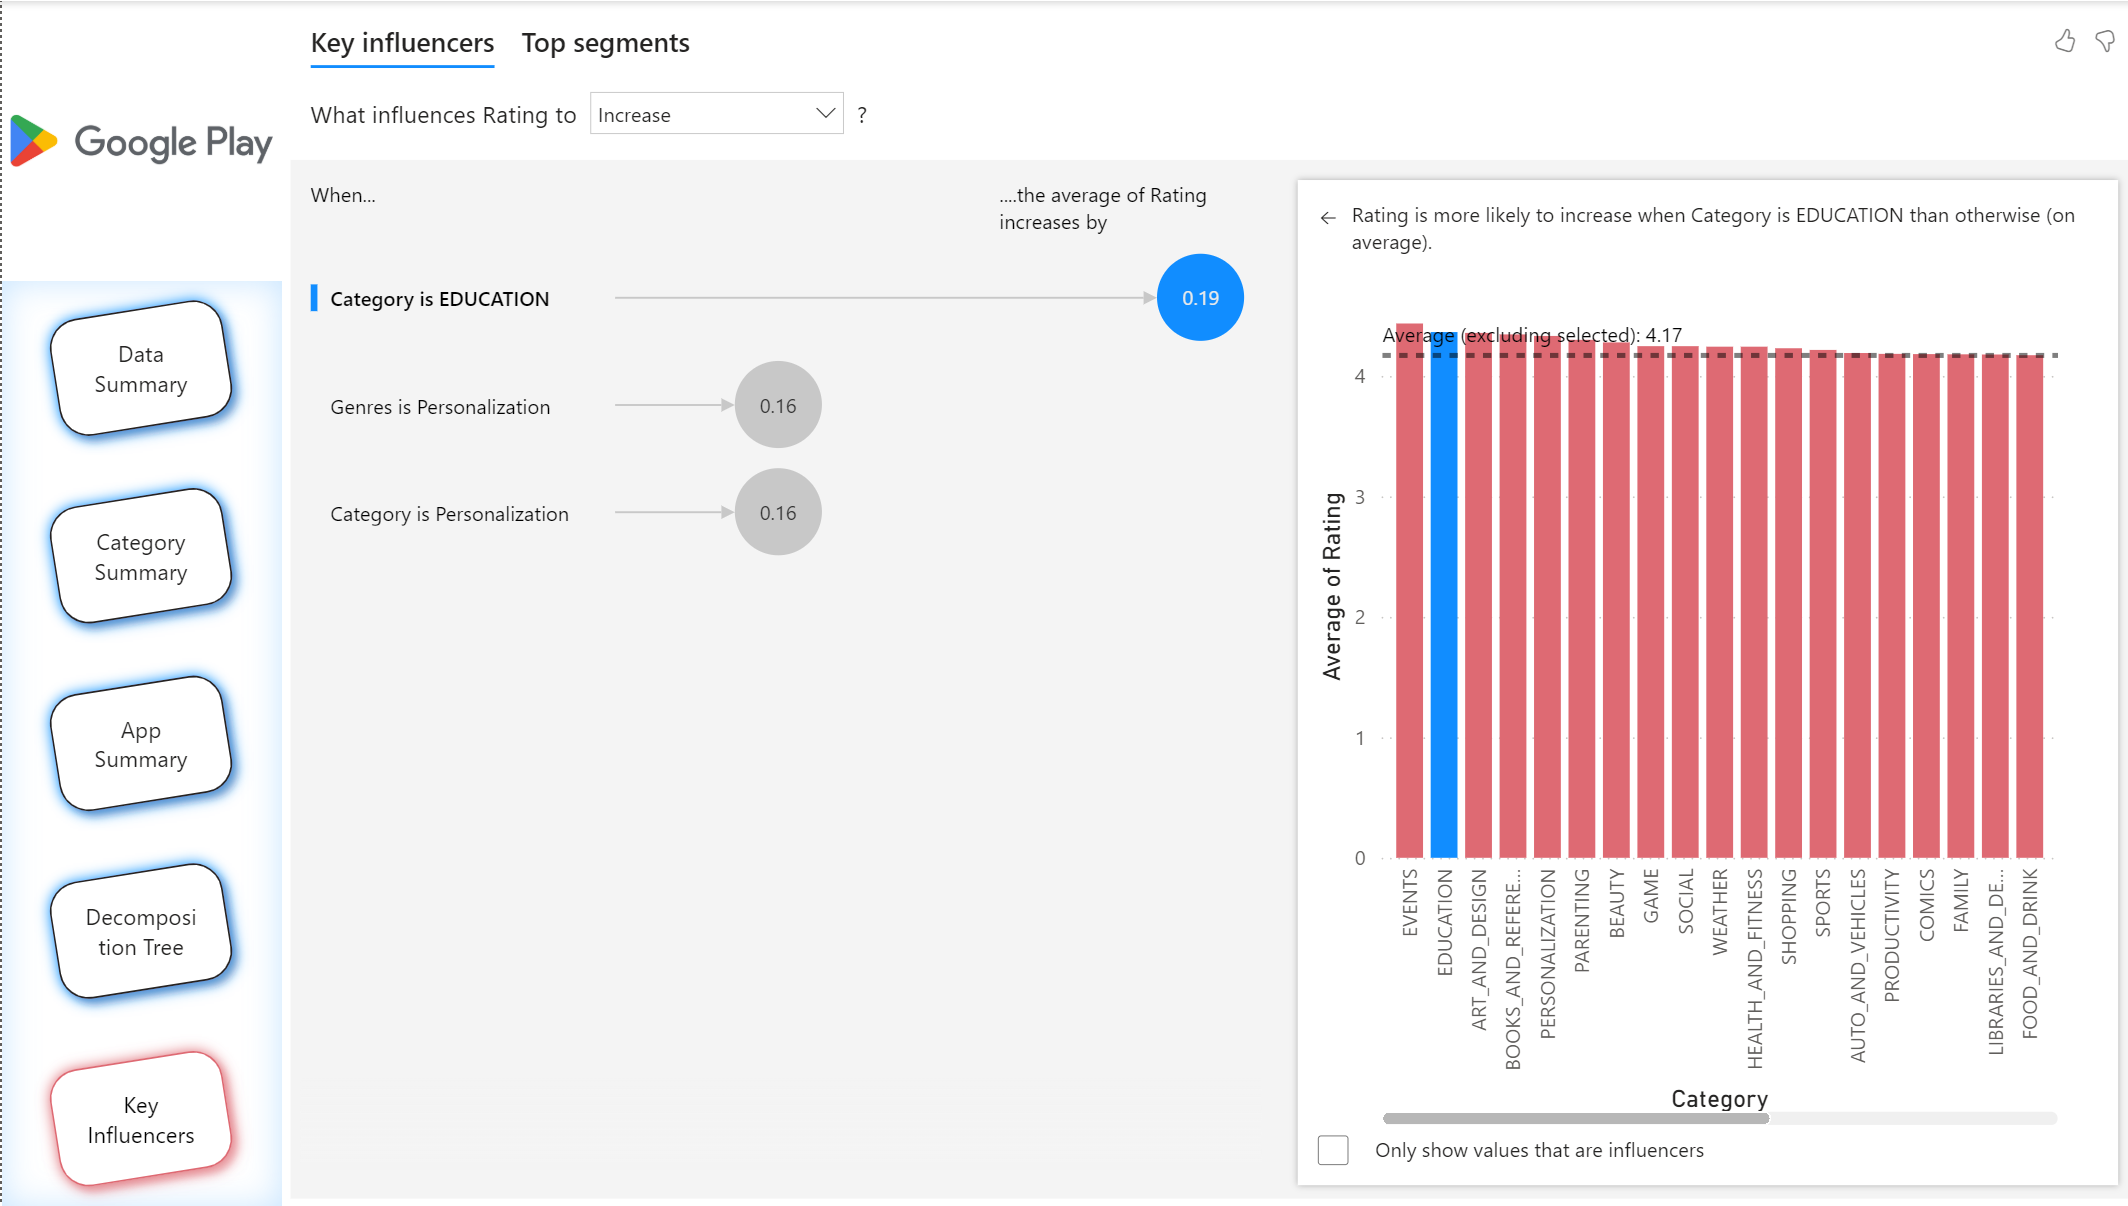

This screenshot's page, from the dashboard's own definition file:
{"tool":"powerbi","page":{"name":"Key Influencers","canvas":[1280,720],"ordinal":4},"visuals":[{"type":"keyDriversVisual","fields":{"Target":["Play Store Data.Rating"],"ExplainBy":["Play Store Data.Category","Play Store Data.Content Rating","Play Store Data.Genres","Sum(Play Store Data.Price)"]},"box":[166.7,0,1113.2,720.1],"z":0},{"type":"image","box":[0,0,166.7,166.7],"z":1000},{"type":"pageNavigator","box":[0,166.7,166.7,553.5],"z":2000}]}

Visuals, with their boxes on the page's 1280x720 design canvas (x1, y1, x2, y2). These are canvas units, not pixel positions in the 2128x1206 screenshot, which may show the page scaled, cropped or inside an application window:
keyDriversVisual - Play Store Data.Rating x Play Store Data.Category: region(167, 0, 1280, 720)
image: region(0, 0, 167, 167)
pageNavigator: region(0, 167, 167, 720)
